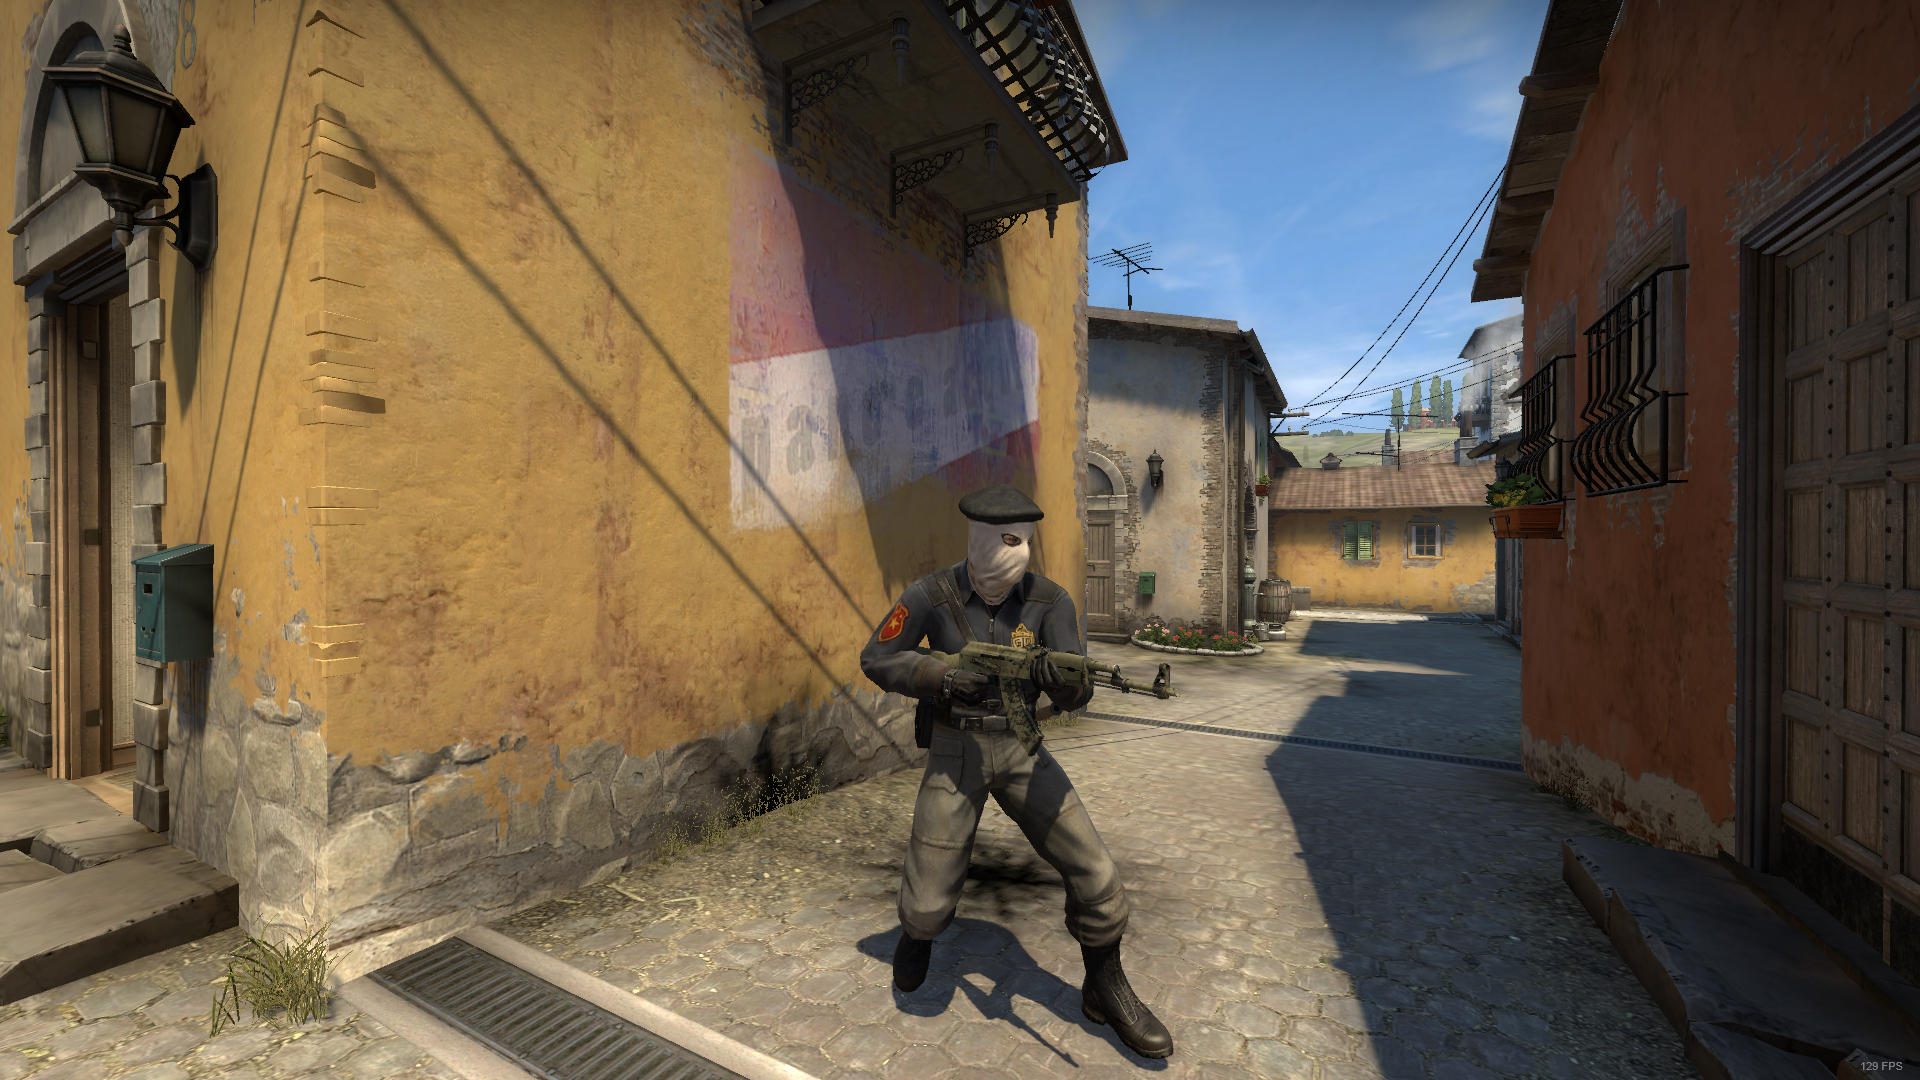t: (861, 475, 1185, 1069)
